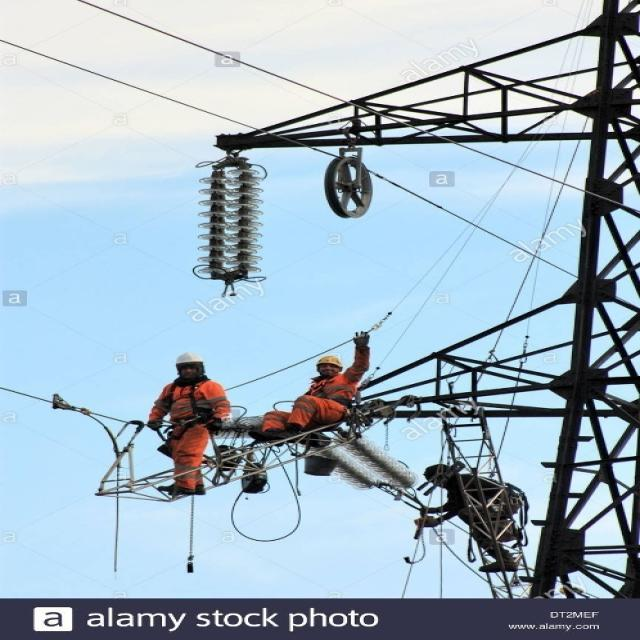non-critical vegetation: (158, 1, 635, 596)
